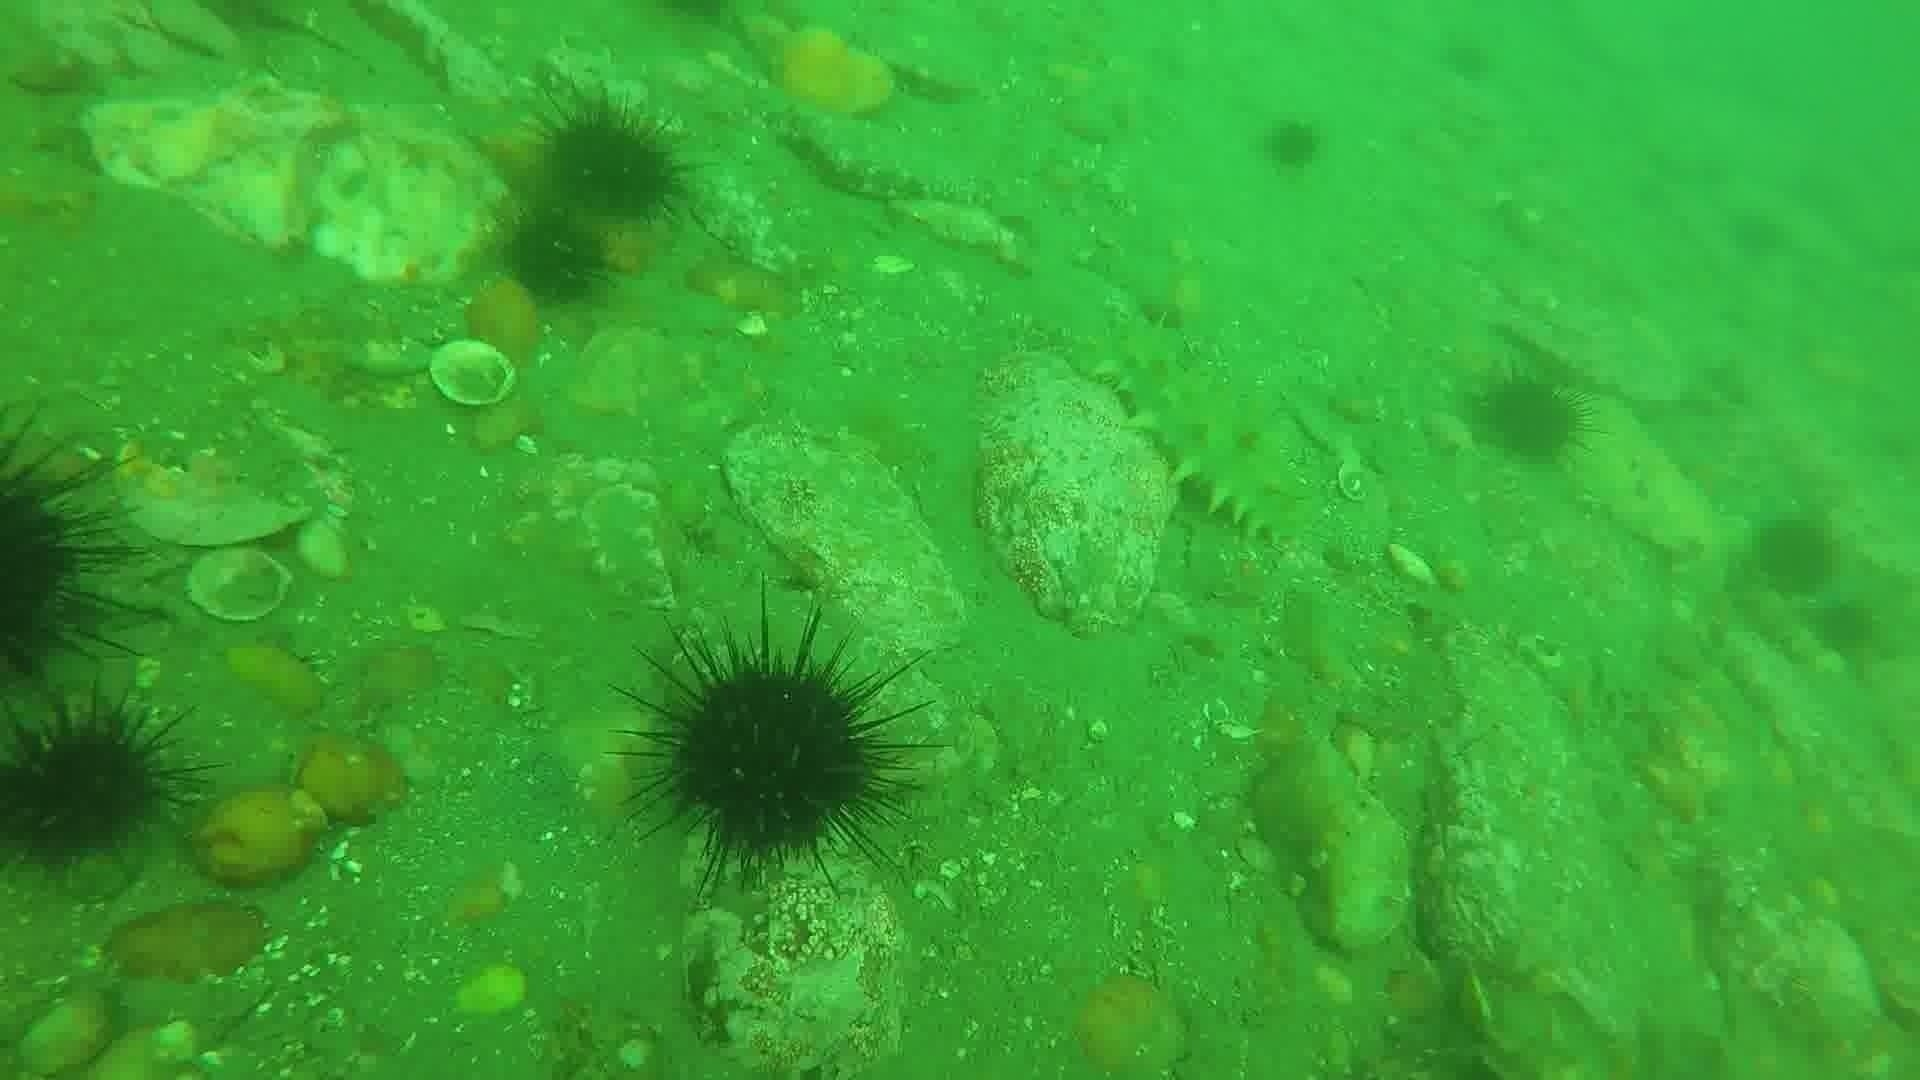echinus: (612, 611, 928, 886), (1, 409, 149, 696), (1, 690, 193, 874), (537, 98, 688, 225), (1470, 367, 1593, 469), (498, 207, 611, 309), (1747, 513, 1841, 600), (1807, 596, 1883, 663), (1257, 113, 1327, 175)
holothurian: (1087, 316, 1313, 547)
